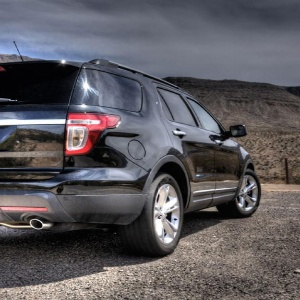train: (135, 169, 185, 254), (215, 163, 261, 222)
